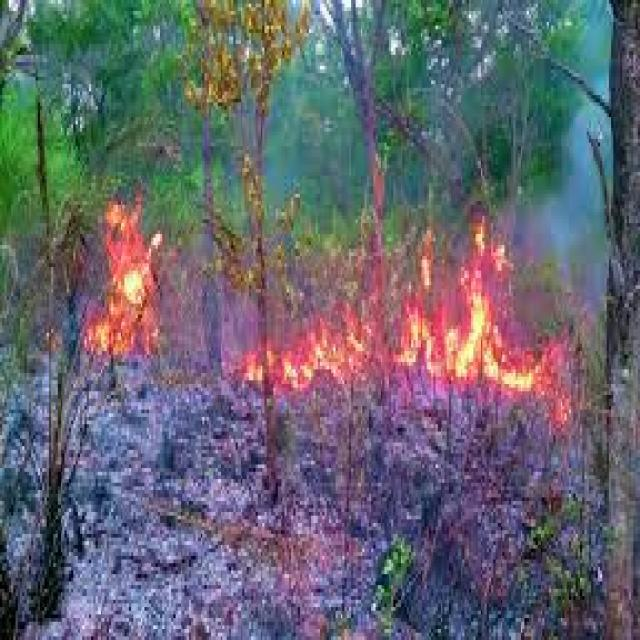Fire: (230, 244, 570, 411), (90, 198, 168, 384)
